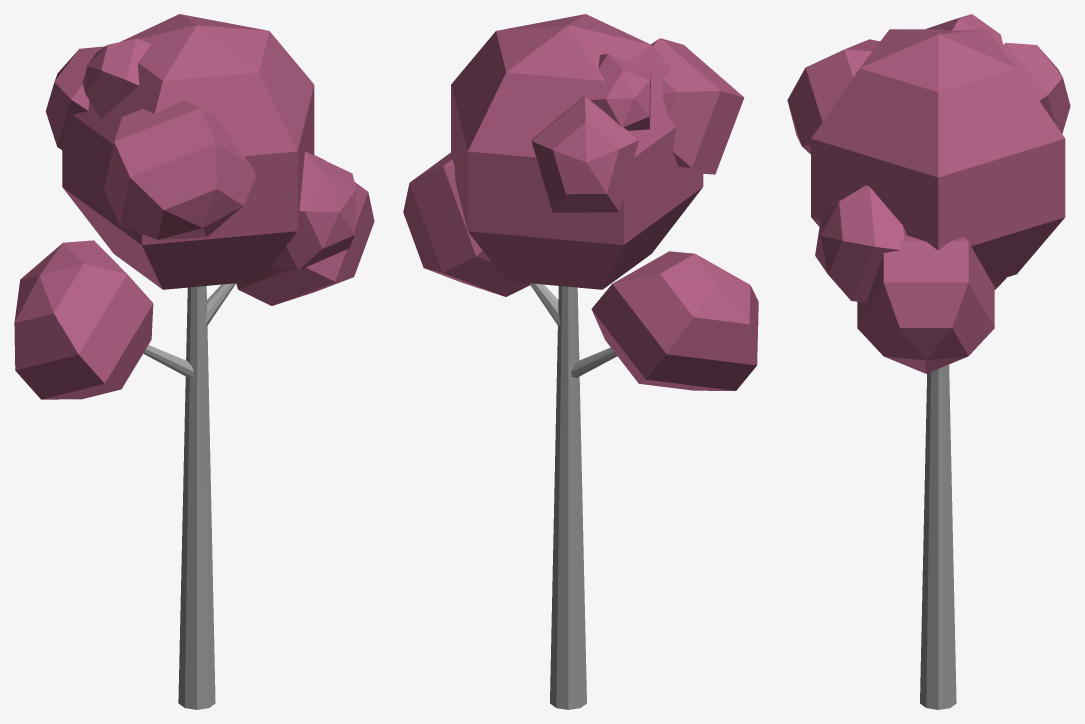
Rendered from Pink_Tree.fbx.
3 renders of one model, left to right at view 1: azimuth 30°, elevation 25°; view 2: azimuth 150°, elevation 25°; view 3: azimuth 270°, elevation 25°, orthographic.
Parts seen in each view (by area): view 1: pSphere1, pSphere7, pSphere2, pCone8, pSphere4, pSphere3, pSphere6, pSphere5, pCone9; view 2: pSphere1, pSphere7, pCone8, pSphere5, pSphere3, pSphere2, pSphere6, pCone9; view 3: pSphere1, pSphere3, pCone8, pSphere4, pSphere2, pSphere5, pSphere6.
Part boxes in pixels (x1,y1,x2,y2): pSphere1: (62, 14, 314, 289); pSphere7: (14, 240, 153, 399); pSphere2: (104, 100, 256, 239); pCone8: (178, 283, 235, 709); pSphere4: (272, 151, 356, 270); pSphere3: (236, 155, 374, 305); pSphere6: (82, 38, 151, 118); pSphere5: (45, 46, 104, 149); pCone9: (143, 345, 194, 377); pSphere1: (451, 14, 703, 289); pSphere7: (591, 251, 758, 390); pCone8: (529, 283, 586, 709); pSphere5: (531, 96, 638, 212); pSphere3: (403, 152, 529, 296); pSphere2: (651, 38, 744, 174); pSphere6: (580, 53, 651, 130); pCone9: (571, 347, 617, 377); pSphere1: (811, 29, 1065, 281); pSphere3: (857, 235, 994, 373); pCone8: (920, 364, 956, 709); pSphere4: (815, 185, 906, 302); pSphere2: (787, 39, 879, 154); pSphere5: (1000, 42, 1070, 133); pSphere6: (926, 14, 1002, 46).
Size of the model in its own units: 5.21 by 9.81 by 3.77.
